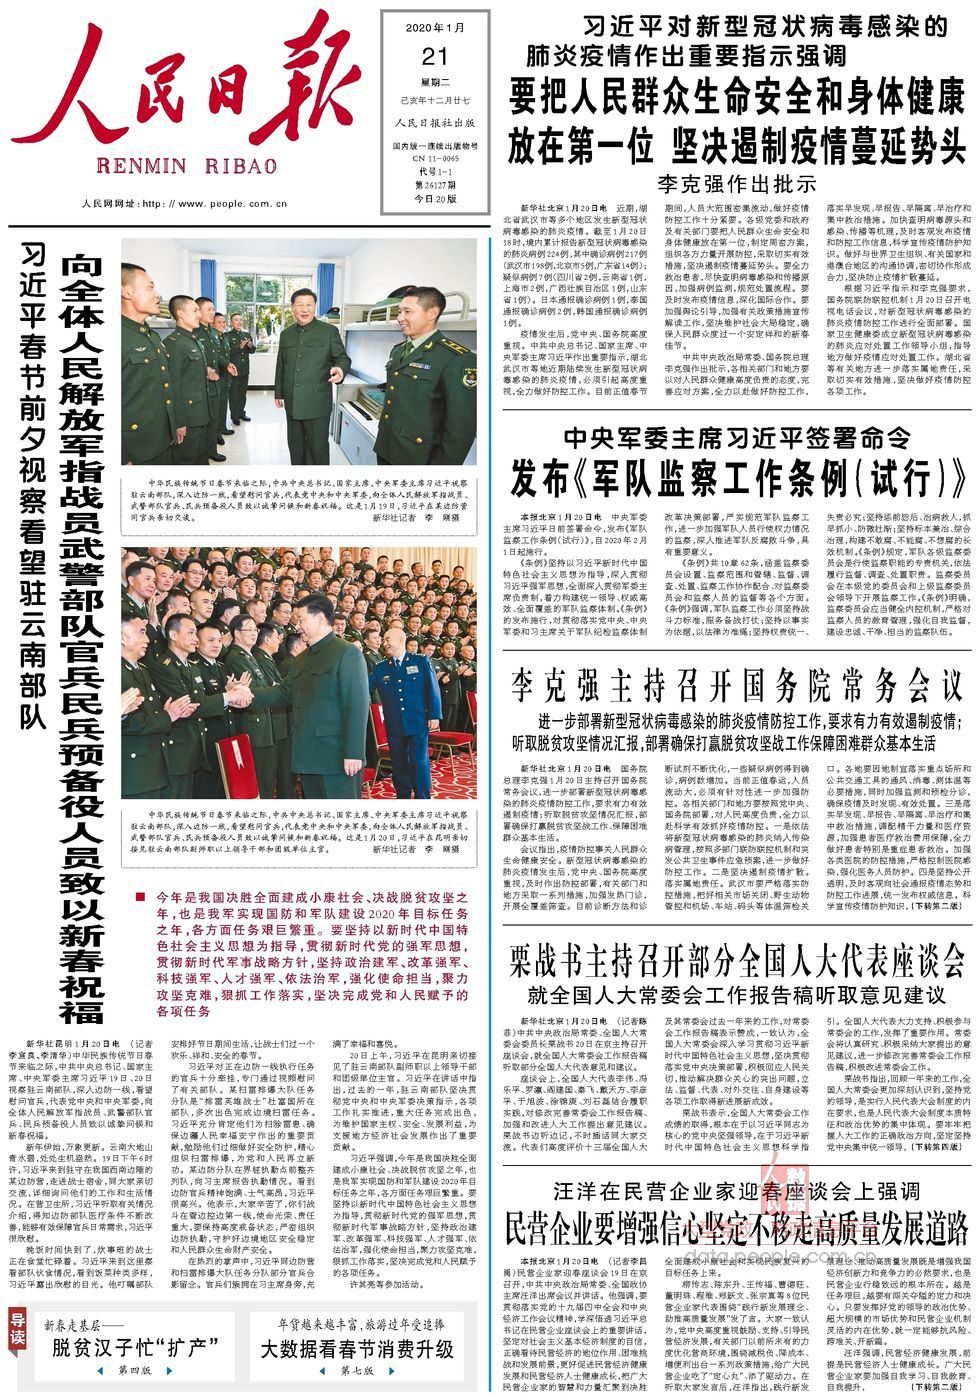pic: (117, 541, 480, 804), (117, 234, 481, 470)
